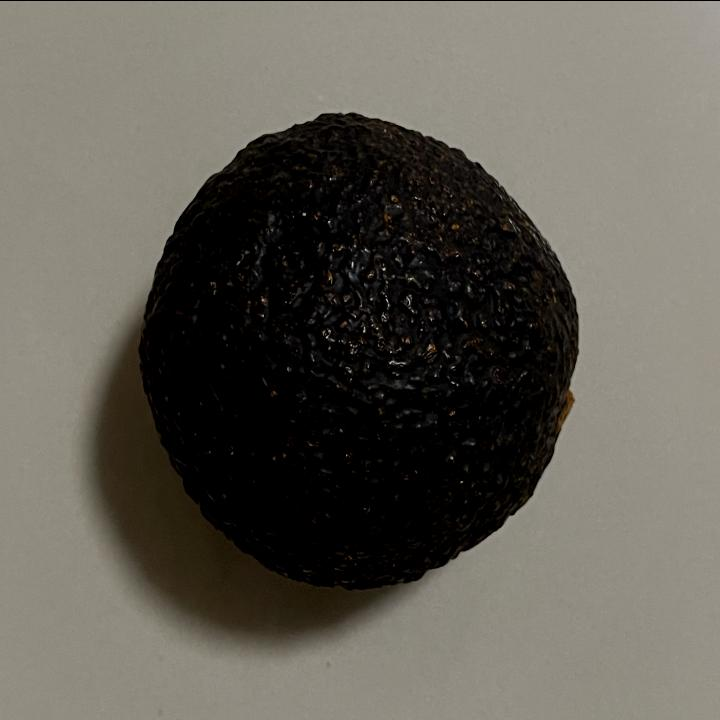Level2: (134, 105, 588, 599)
